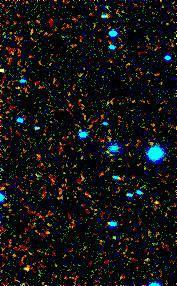star: (15, 254, 45, 284)
